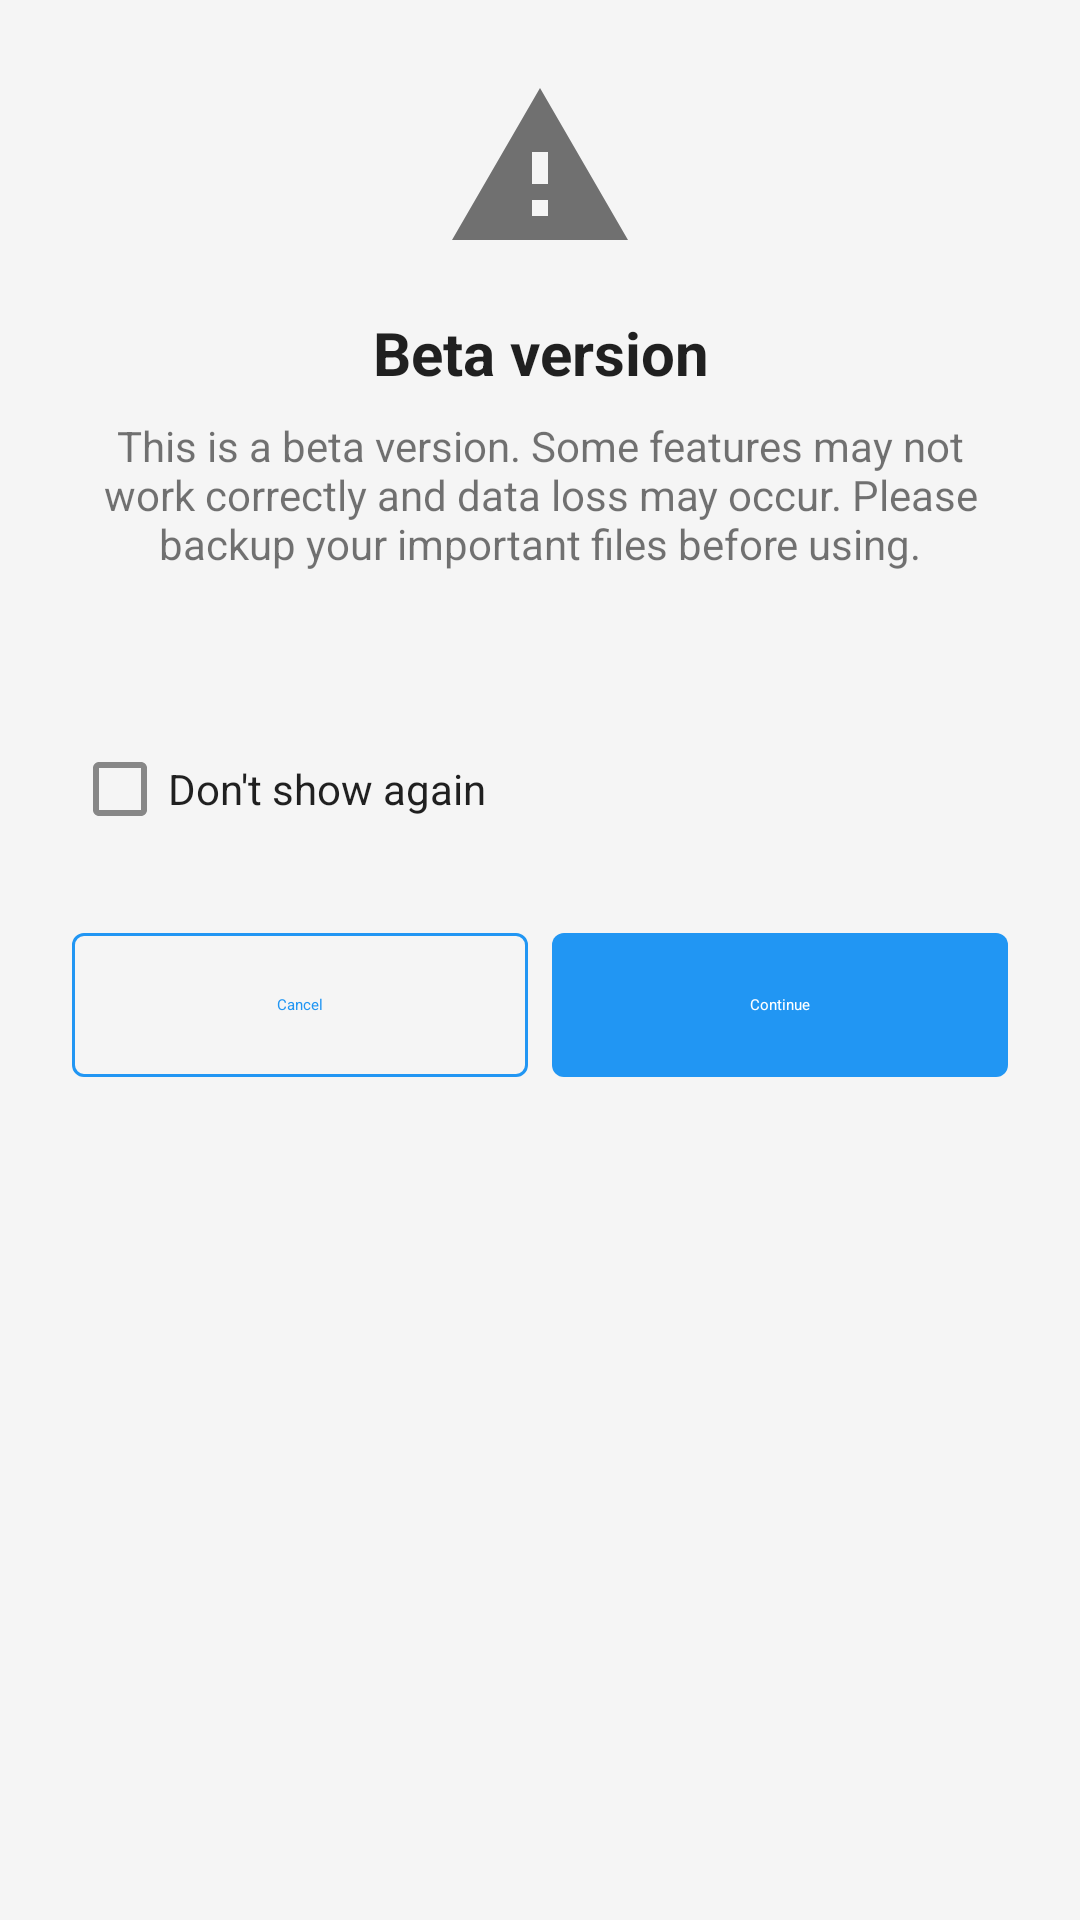

Icon click points for this 1080w x 1920h phone screenshot, format point (x, y):
warning: point (540, 164)
